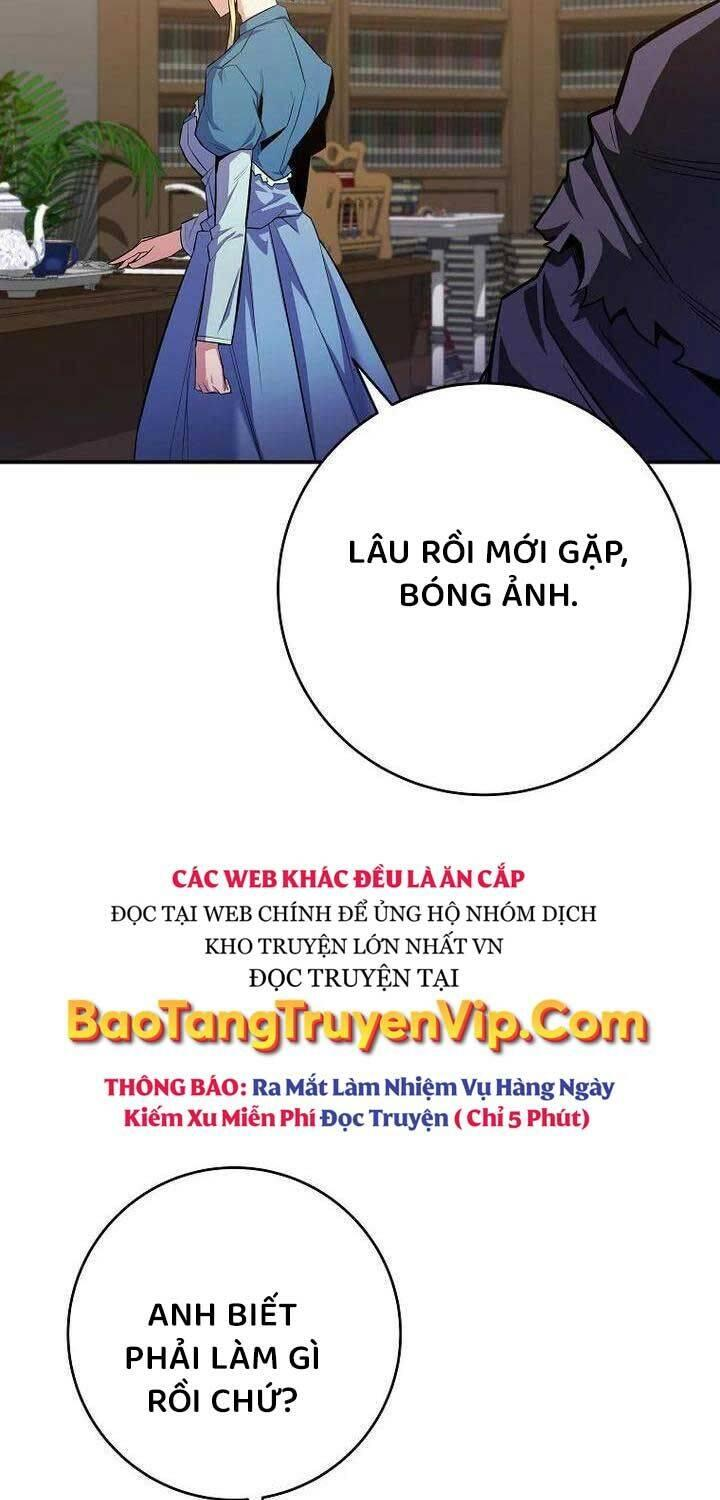quangcao: (68, 864, 650, 1134)
